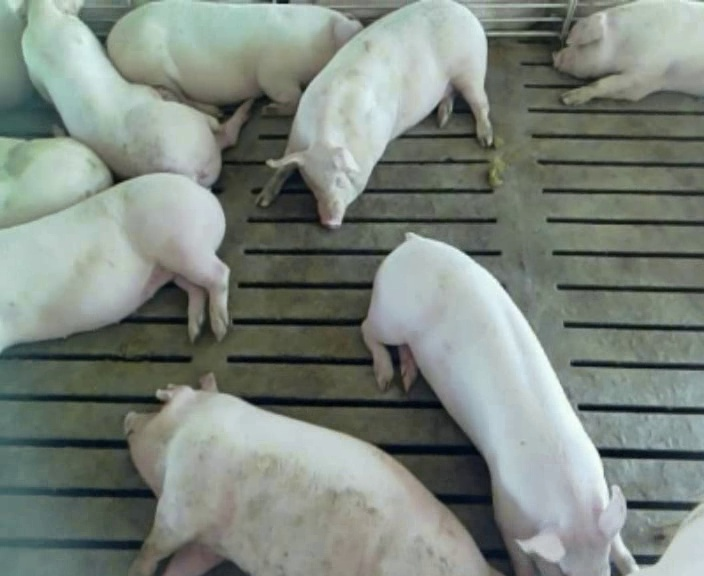pig: (362, 234, 634, 574), (126, 375, 493, 574), (256, 2, 492, 227), (6, 1, 251, 186), (0, 173, 229, 351), (107, 2, 361, 116), (554, 2, 703, 104), (0, 124, 112, 227), (634, 503, 703, 574)
